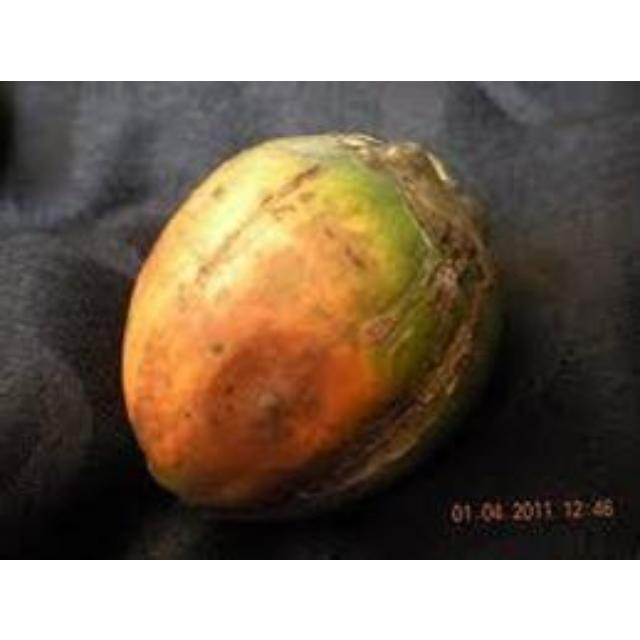good: (119, 132, 504, 527)
